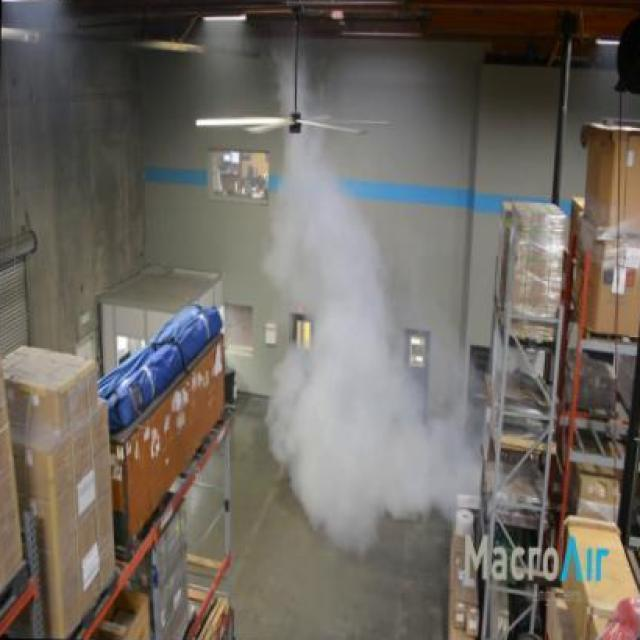fire: (256, 150, 443, 560)
